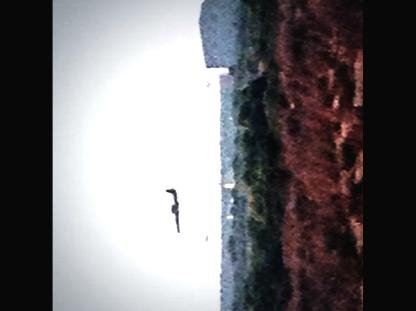Tu160: (165, 186, 180, 233)
